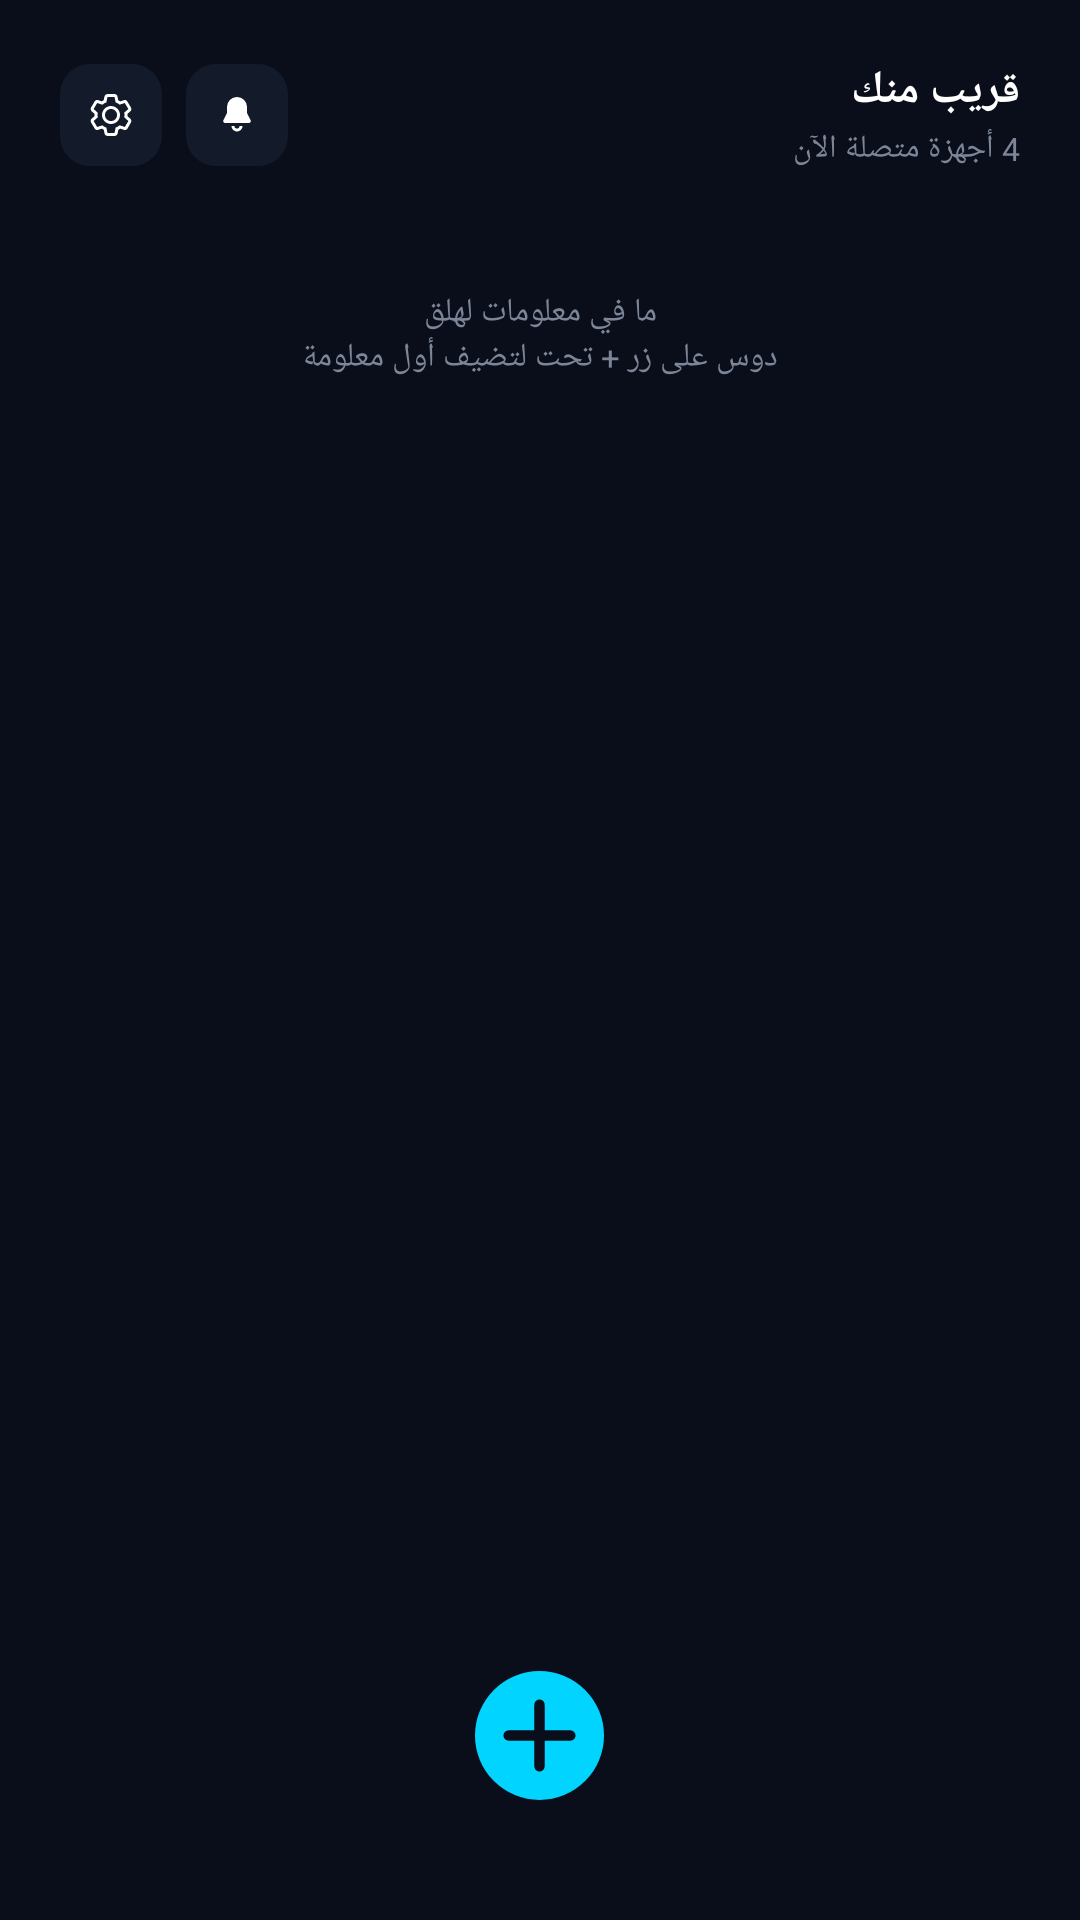

Point at icon controls on the screen. Image size 1080×1920, points as point (x, y).
bell: point (237, 114)
carbon settings: point (111, 115)
fab add: point (539, 1735)
